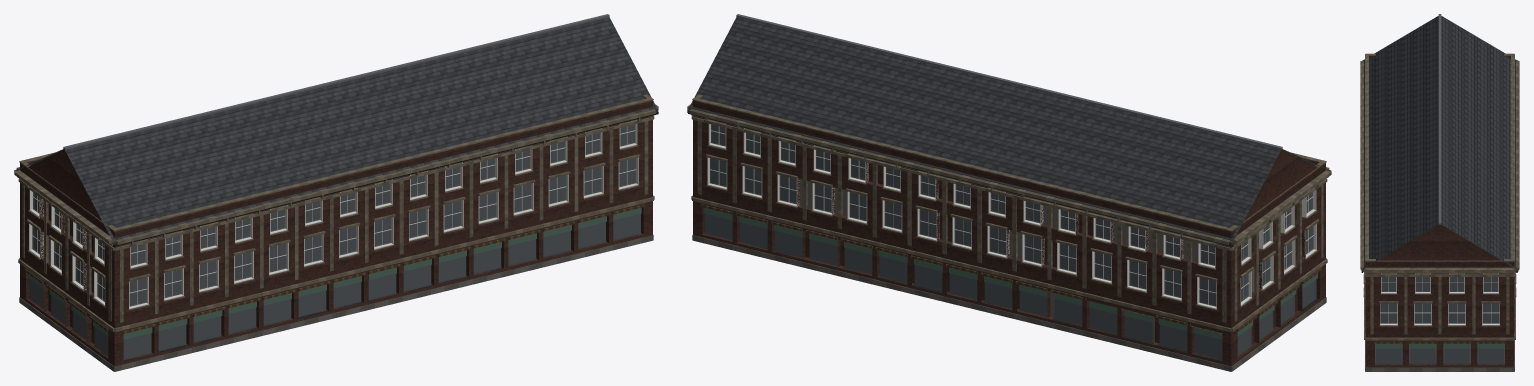
Rendered from A_terrace.glb.
The picture shows the model from 3 angles, left to right: view 1: azimuth 30°, elevation 25°; view 2: azimuth 150°, elevation 25°; view 3: azimuth 270°, elevation 25°; orthographic projection. The views are drawn at different scales.
Visible parts, largest first — view 1: A_terrace; view 2: A_terrace; view 3: A_terrace.
Boxes of the visible parts, x1,y1,x2,y2 form: A_terrace: (14,14,658,371); A_terrace: (687,14,1331,371); A_terrace: (1360,14,1519,371).
Bounding box in the file's own units: 46.98 × 15.53 × 14.98.
Materials: 13 (8 with a texture image).
